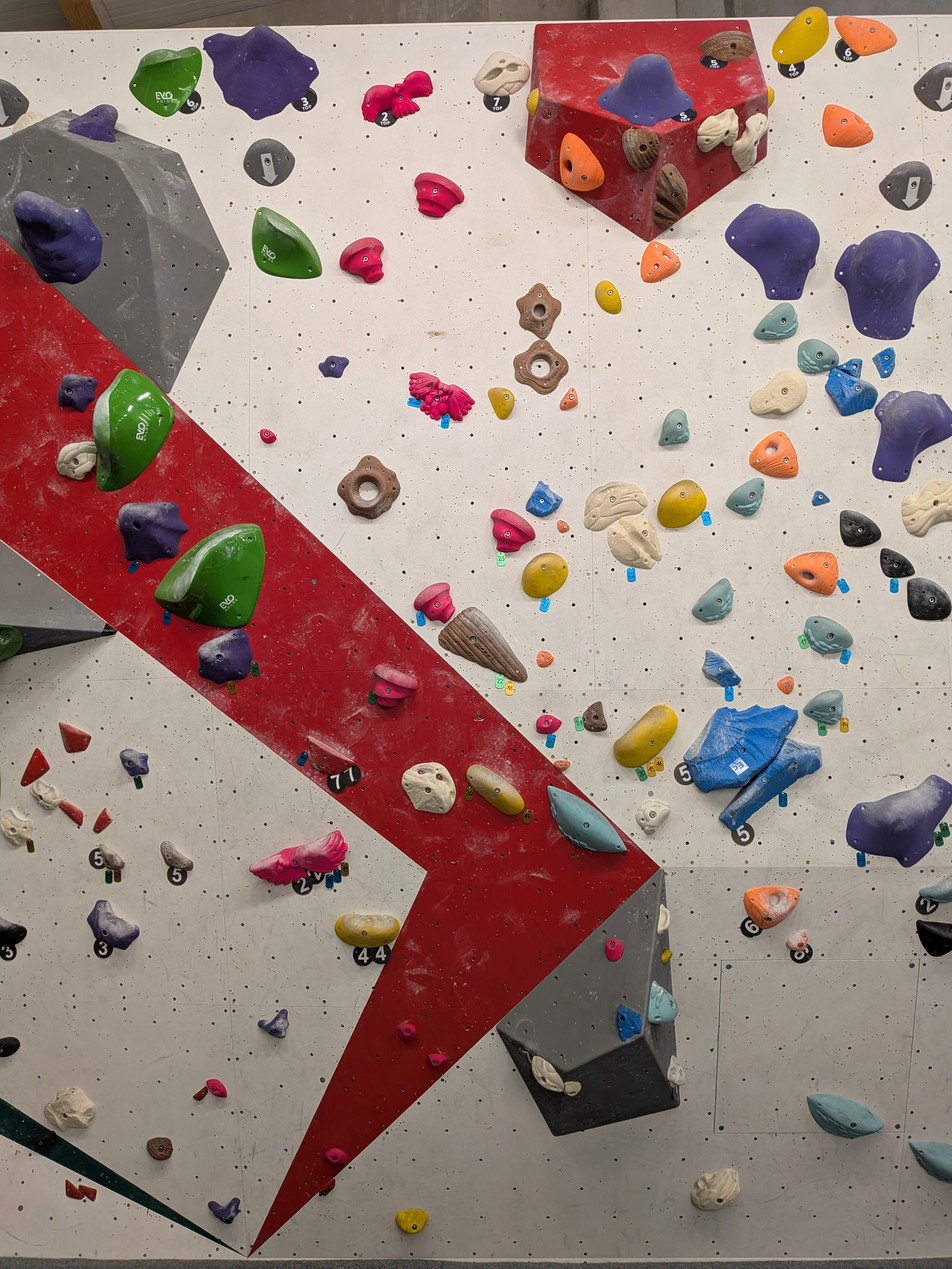hold: (836, 231, 941, 342), (156, 524, 265, 626), (202, 27, 316, 119), (92, 367, 173, 491), (684, 705, 797, 792), (847, 775, 952, 867), (719, 739, 822, 830), (726, 205, 820, 302), (14, 192, 103, 284), (872, 390, 952, 482), (598, 54, 692, 127), (437, 608, 524, 682), (548, 786, 628, 853), (250, 831, 346, 883), (253, 208, 322, 277), (131, 47, 202, 114), (118, 501, 188, 563), (616, 704, 679, 768), (338, 457, 398, 518), (362, 71, 433, 121), (771, 7, 829, 67), (807, 1094, 883, 1138), (409, 372, 474, 421), (585, 483, 647, 531), (466, 766, 525, 816), (514, 339, 568, 393), (901, 479, 952, 536), (828, 359, 878, 415), (402, 763, 455, 815), (196, 633, 252, 682), (559, 134, 605, 193), (473, 51, 530, 98), (750, 369, 807, 415), (608, 517, 661, 566), (881, 161, 932, 210), (835, 16, 896, 56), (89, 901, 140, 948), (785, 552, 840, 595), (44, 1086, 96, 1131), (518, 285, 562, 338), (749, 431, 798, 478), (660, 481, 707, 529), (243, 139, 291, 186), (335, 913, 400, 947), (821, 105, 872, 148), (653, 164, 687, 228), (745, 886, 799, 926), (691, 1168, 740, 1210), (732, 113, 767, 171), (416, 174, 463, 217), (523, 554, 568, 598), (907, 577, 952, 621), (491, 508, 535, 552), (373, 664, 418, 707), (914, 62, 952, 112), (804, 614, 852, 653), (307, 736, 355, 775), (67, 104, 116, 141), (697, 108, 738, 152), (910, 1141, 952, 1183), (340, 239, 381, 282), (693, 579, 734, 622), (754, 301, 798, 341), (699, 31, 755, 62), (641, 242, 681, 282), (414, 583, 455, 622), (622, 128, 660, 170), (840, 510, 882, 547), (58, 441, 97, 478), (801, 339, 842, 374), (803, 689, 843, 724), (727, 478, 764, 515), (57, 375, 96, 410), (0, 79, 29, 126), (704, 651, 740, 688), (917, 920, 952, 956), (648, 982, 678, 1024), (637, 799, 671, 835), (527, 483, 562, 517), (532, 1056, 565, 1092), (0, 809, 33, 844), (661, 409, 691, 446), (21, 749, 48, 786), (160, 841, 193, 871), (616, 1003, 642, 1041), (880, 550, 914, 579), (31, 779, 64, 808), (59, 722, 89, 752), (208, 1196, 240, 1224), (10, 110, 47, 134), (121, 748, 149, 779), (920, 876, 952, 903), (488, 386, 514, 419), (97, 845, 125, 874), (259, 1008, 286, 1038), (0, 917, 27, 946), (396, 1208, 427, 1233), (597, 282, 622, 312), (585, 702, 608, 733), (60, 799, 83, 826), (147, 1136, 172, 1160), (320, 357, 347, 378), (668, 1055, 686, 1086), (537, 714, 561, 736), (787, 930, 809, 954), (877, 349, 895, 378), (605, 937, 624, 962), (657, 903, 671, 933), (205, 1079, 225, 1098), (0, 1037, 19, 1057), (65, 1179, 83, 1200), (324, 1150, 347, 1166), (526, 88, 539, 116), (777, 674, 795, 694), (560, 390, 578, 409), (95, 810, 110, 832), (78, 1184, 96, 1201), (429, 1052, 448, 1068), (399, 1022, 415, 1040), (319, 1179, 335, 1197), (563, 1081, 581, 1096), (816, 491, 833, 506), (538, 651, 554, 666), (551, 758, 570, 770), (259, 429, 274, 442), (767, 86, 775, 108), (558, 521, 571, 533), (662, 949, 672, 963), (785, 683, 785, 684)
volume: (0, 109, 231, 398), (523, 19, 768, 242), (496, 867, 680, 1135), (0, 539, 119, 661)
